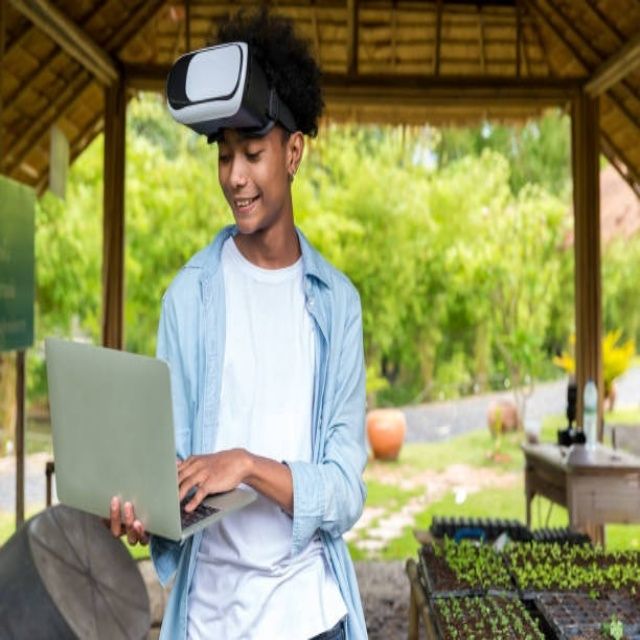Sin_gafas: (214, 136, 276, 173)
Sin_guantes: (173, 438, 248, 511), (107, 495, 150, 549)
Sin_mascara: (227, 185, 266, 226)
